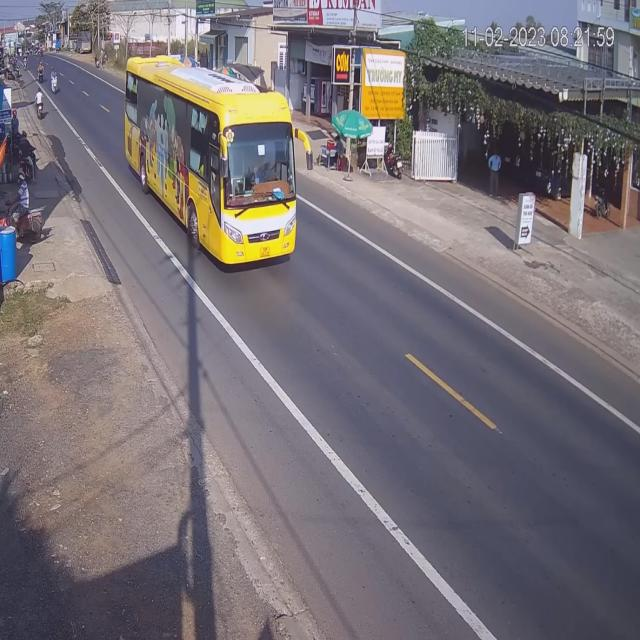bus: (123, 53, 294, 270)
